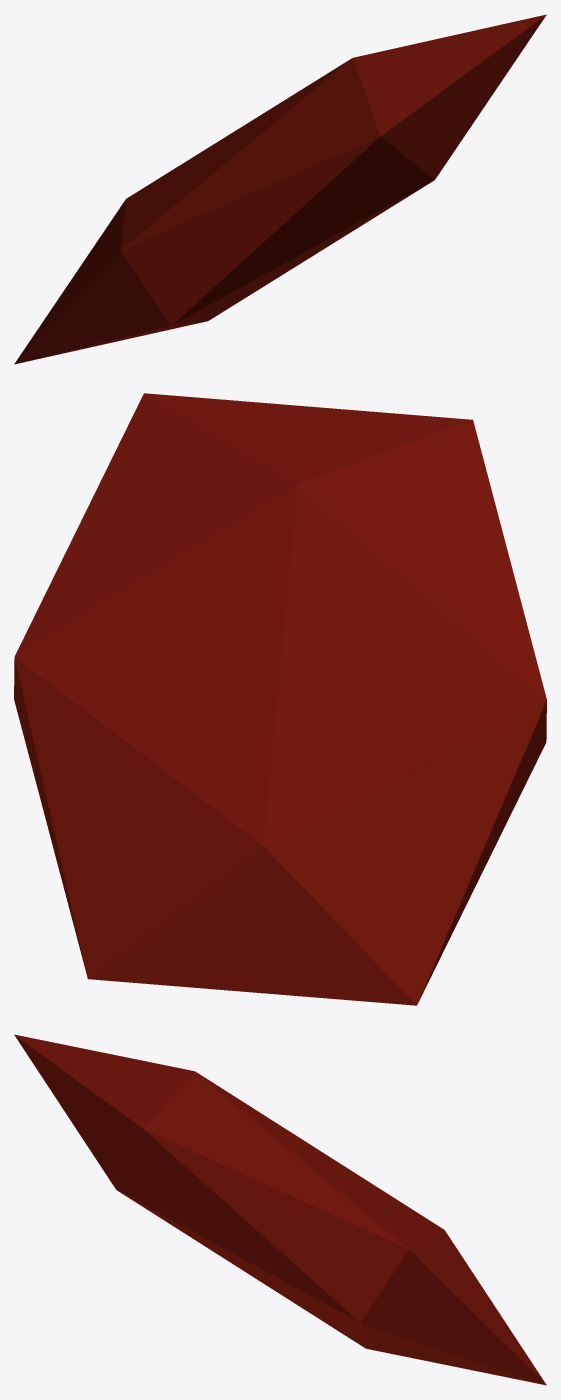
Rendered from Platonic_24.gltf.
3 views of the same model, one above another, from view 1: azimuth 30°, elevation 25°; view 2: azimuth 150°, elevation 25°; view 3: azimuth 270°, elevation 25° (orthographic). The views are drawn at different scales.
Visible parts, largest first — view 1: Platonic_24; view 2: Platonic_24; view 3: Platonic_24.
Part boxes in pixels (x1,y1,x2,y2): Platonic_24: (14, 14, 546, 364); Platonic_24: (14, 393, 546, 1005); Platonic_24: (14, 1034, 546, 1385).
Size of the model in its own units: 37.76 by 32.14 by 44.76.
